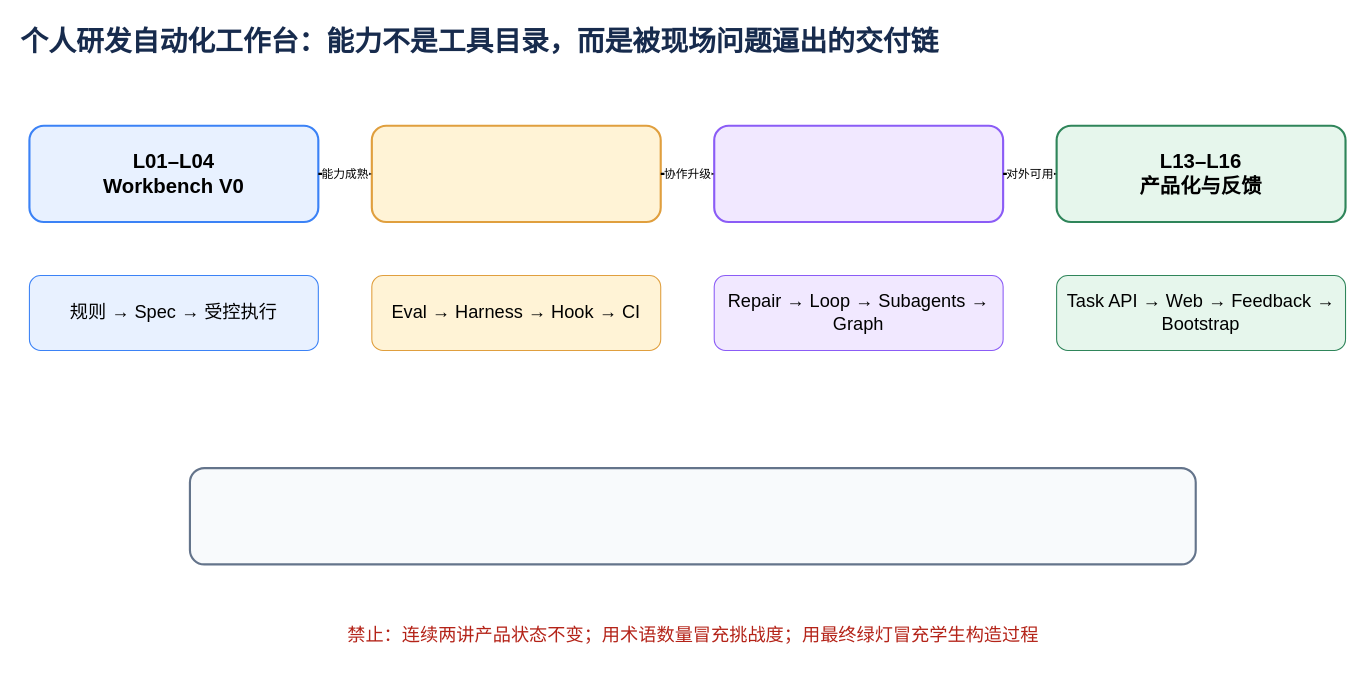
The diagram is 1364 pixels wide and 678 high, and some of its shapes have lost their labels. Here are the shapes that lost their labels. From the top down, the box of each, then its label:
(370, 124, 661, 223): L05–L08 质量证据链
(713, 124, 1004, 223): L09–L12 受控协作
(188, 467, 1196, 565): 每次升级都必须回到 FlowERP：正常路径 + 主动失败 + 失败后状态 + 他人复验
